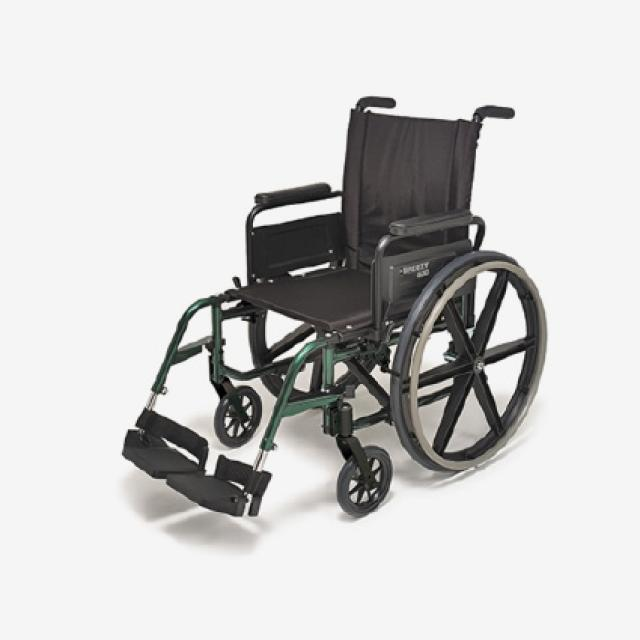wheelchairs: (121, 75, 560, 536)
